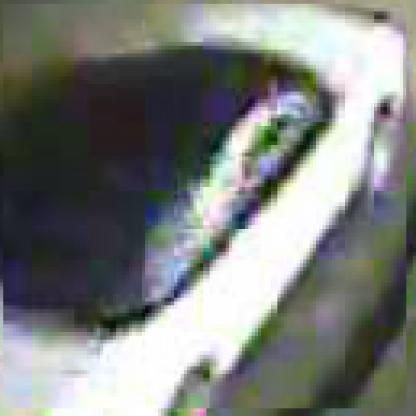car: (4, 5, 411, 413)
